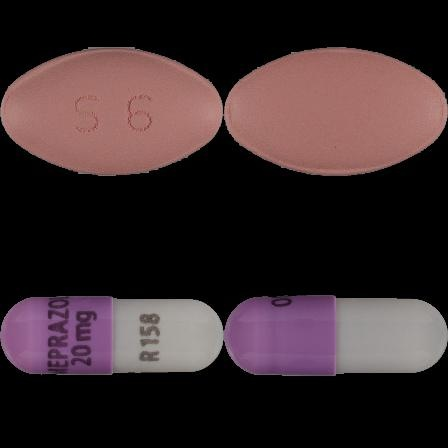53808-1050: (0, 0, 224, 224)
